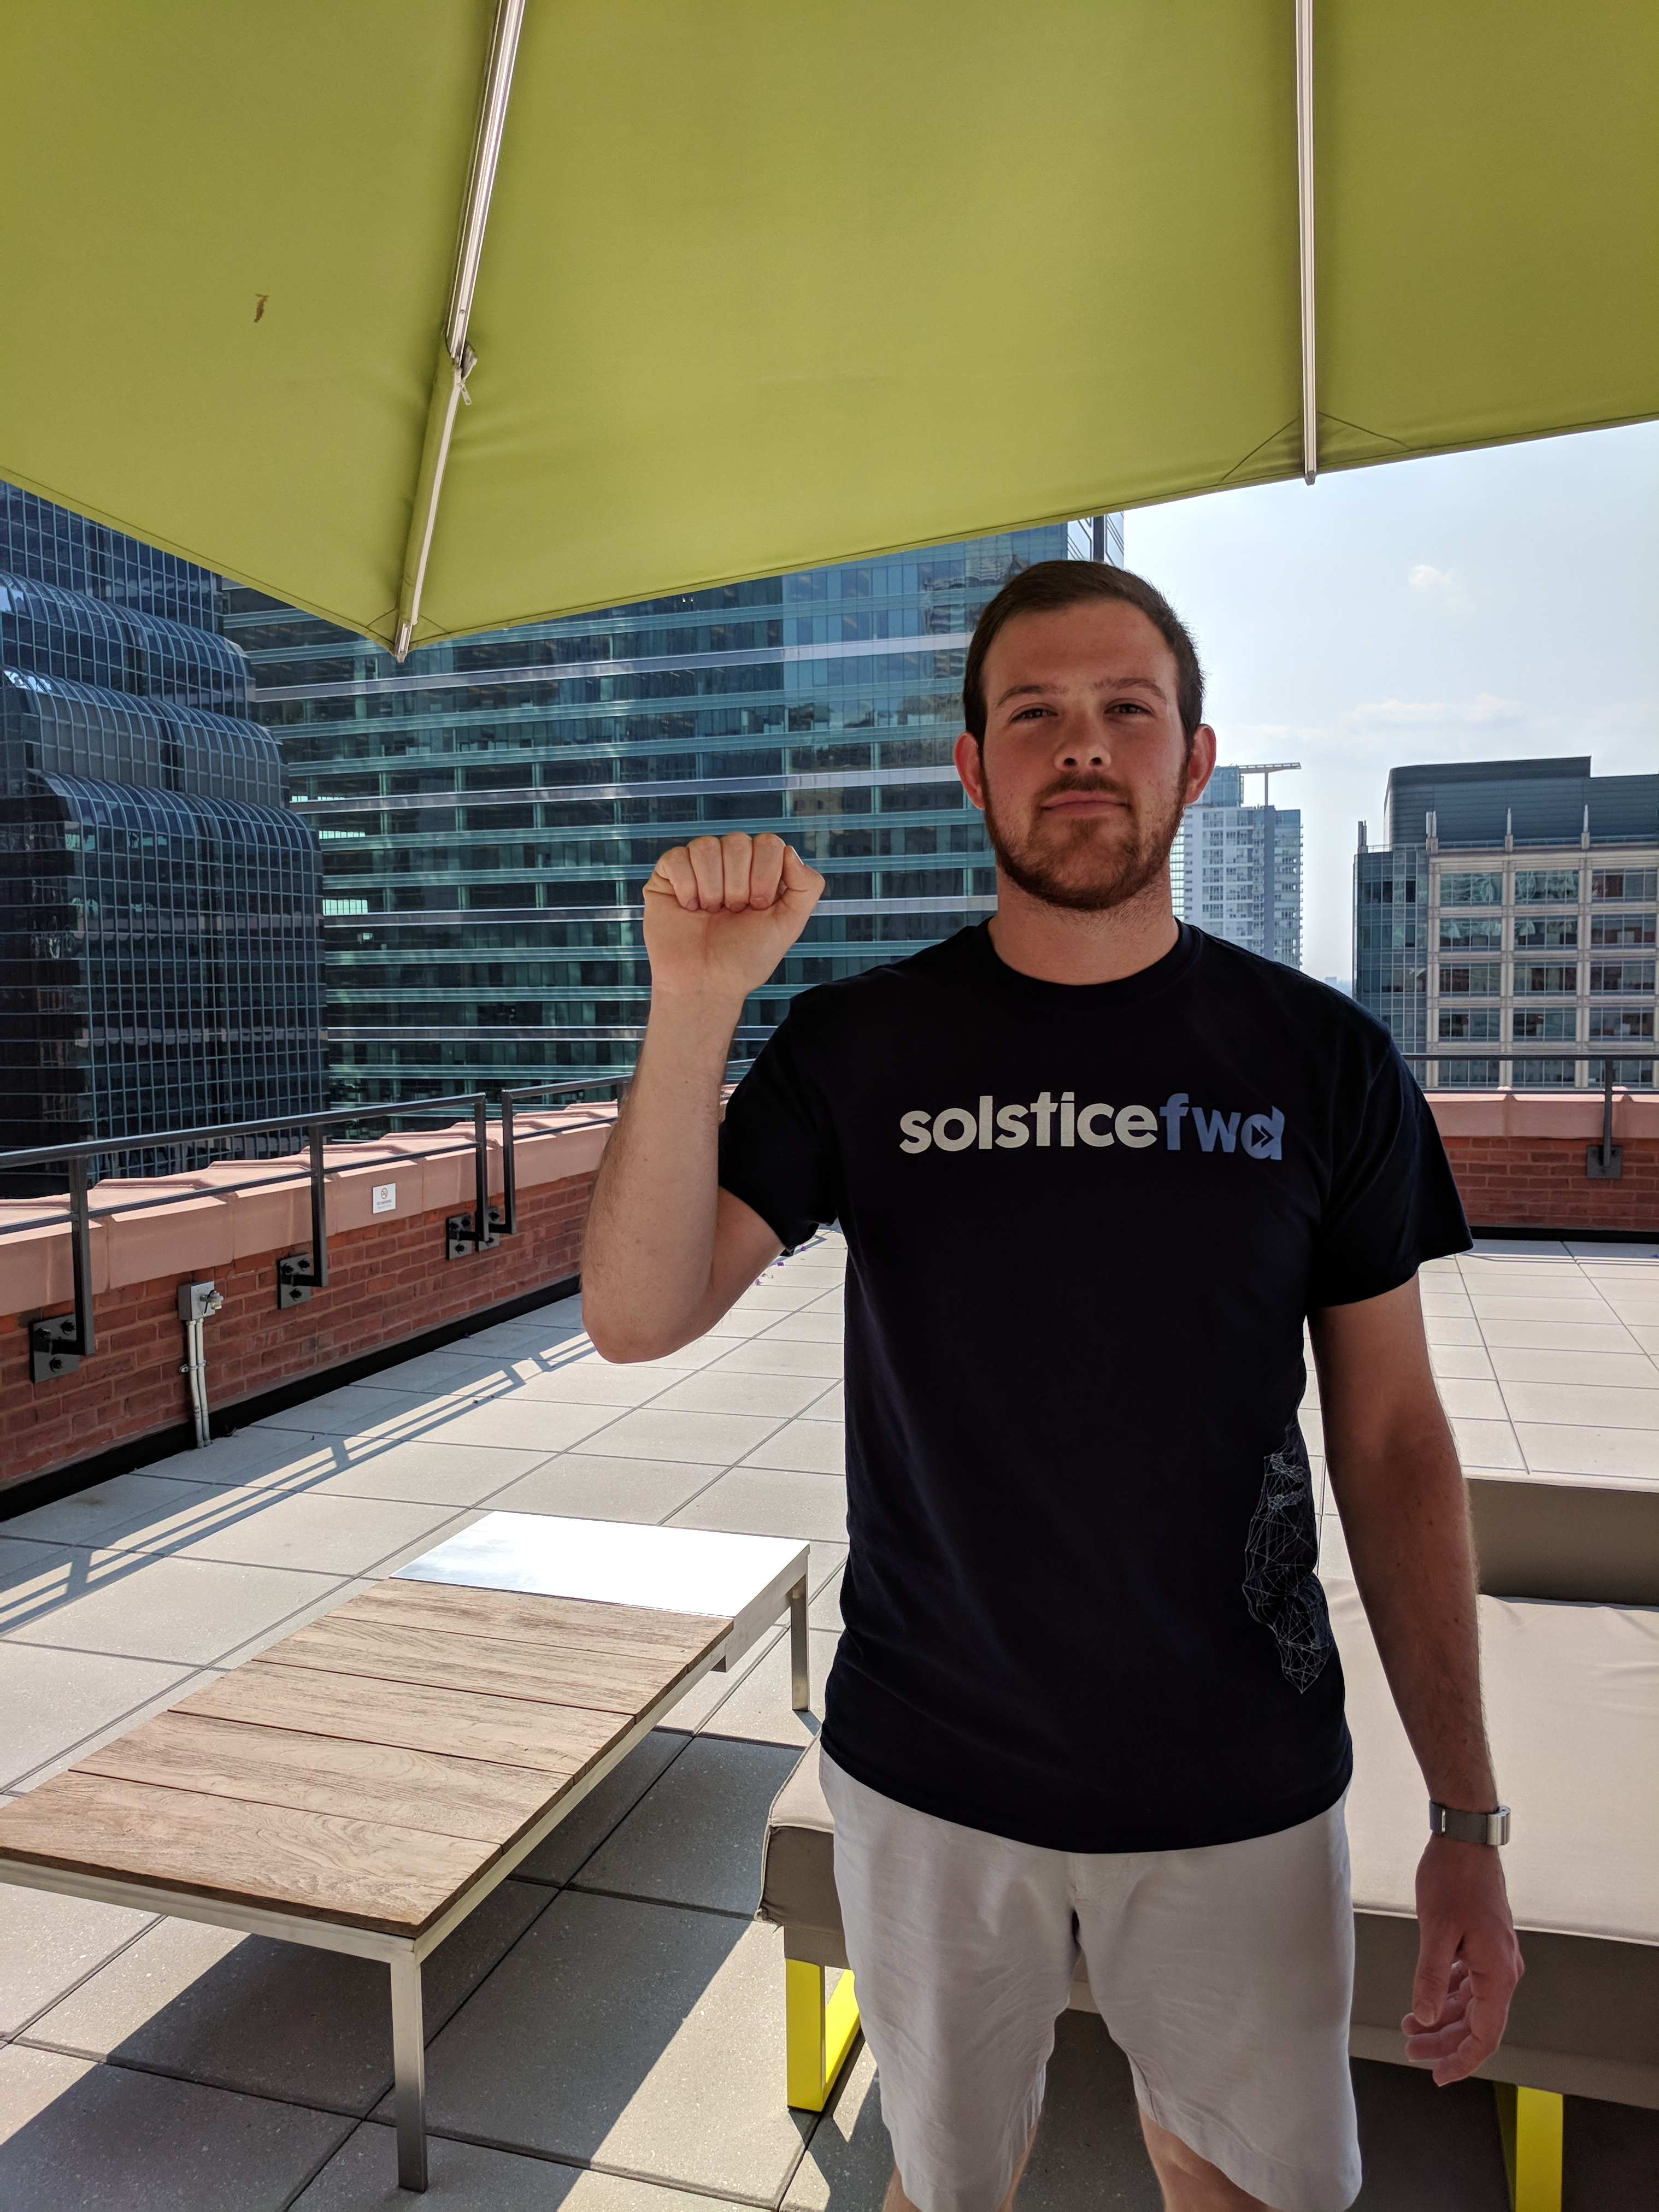a: (633, 827, 835, 991)
